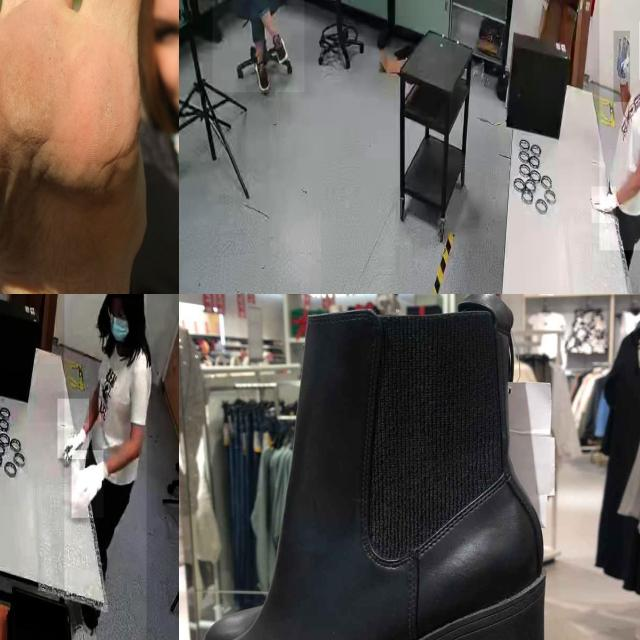Barefoots: (0, 0, 147, 294)
Sandals: (179, 294, 582, 640)
face_mask: (106, 304, 132, 348)
hand_glove: (72, 450, 104, 519), (57, 399, 89, 459), (614, 31, 630, 102), (592, 186, 616, 224)
person: (64, 294, 147, 640), (599, 0, 640, 251), (212, 0, 305, 93)
shoes: (66, 612, 101, 640), (252, 51, 272, 95), (271, 29, 289, 68)
